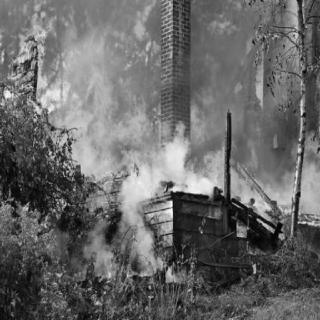Fire: (15, 21, 317, 227), (229, 217, 269, 257)
